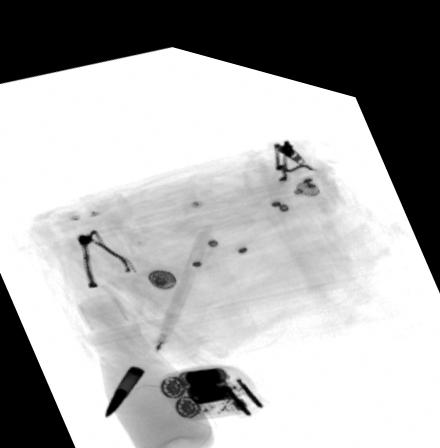Bullet: (103, 356, 145, 412)
